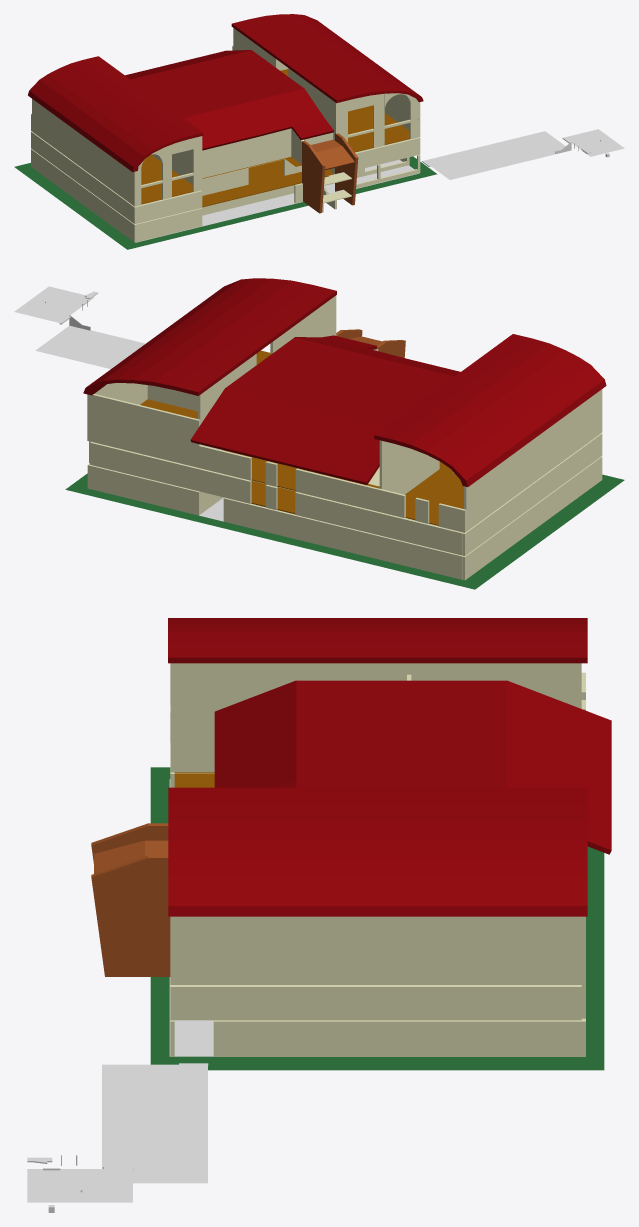
File: Estructura Ing. Informatica.glb
3 views of the same model, one above another, from view 1: azimuth 30°, elevation 25°; view 2: azimuth 150°, elevation 25°; view 3: azimuth 270°, elevation 25° (orthographic). The views are drawn at different scales.
Parts seen in each view (by area): view 1: Cilindro, Cilindro.001, Cubo.114, Cubo.117, Plano.001, Plano.002, Cubo.083, Cubo.085, Cubo.046, Cubo.095, Cubo.075, Cubo.027 (+17 smaller); view 2: Cilindro, Cilindro.001, Cubo.114, Cubo.118, Cubo.050, Plano.002, Cubo.087, Cubo.074, Cubo.059, Cubo.046, Cubo.095, Cubo.083 (+15 smaller); view 3: Cilindro.001, Cubo.114, Cilindro, Cubo.091, Cubo.020, Plano.002, Plano.001, Cubo.084, Cubo.118, Cubo.067, Cubo.086, Cubo.120 (+7 smaller).
Boxes of the visible parts, bbox=[...] form: Cilindro: bbox=[28, 56, 203, 172]; Cilindro.001: bbox=[231, 14, 423, 103]; Cubo.114: bbox=[131, 50, 303, 117]; Cubo.117: bbox=[183, 88, 333, 150]; Plano.001: bbox=[423, 131, 565, 179]; Plano.002: bbox=[14, 156, 437, 249]; Cubo.083: bbox=[141, 69, 409, 204]; Cubo.085: bbox=[202, 128, 291, 178]; Cubo.046: bbox=[31, 149, 136, 242]; Cubo.095: bbox=[74, 130, 133, 205]; Cubo.075: bbox=[31, 131, 136, 223]; Cubo.027: bbox=[202, 159, 334, 207]; Cilindro: bbox=[374, 334, 606, 486]; Cilindro.001: bbox=[83, 278, 336, 395]; Cubo.114: bbox=[226, 337, 454, 426]; Cubo.118: bbox=[190, 388, 384, 484]; Cubo.050: bbox=[226, 498, 462, 579]; Plano.002: bbox=[65, 473, 624, 589]; Cubo.087: bbox=[87, 394, 200, 467]; Cubo.074: bbox=[295, 492, 462, 555]; Cubo.059: bbox=[90, 441, 251, 503]; Cubo.046: bbox=[462, 456, 602, 580]; Cubo.095: bbox=[522, 390, 600, 490]; Cubo.083: bbox=[140, 350, 463, 525]; Cilindro.001: bbox=[168, 787, 587, 916]; Cubo.114: bbox=[296, 680, 506, 787]; Cilindro: bbox=[168, 618, 587, 663]; Cubo.091: bbox=[170, 916, 411, 984]; Cubo.020: bbox=[218, 1020, 585, 1056]; Plano.002: bbox=[150, 767, 604, 1070]; Plano.001: bbox=[102, 1064, 207, 1183]; Cubo.084: bbox=[411, 916, 581, 984]; Cubo.118: bbox=[507, 680, 611, 854]; Cubo.067: bbox=[170, 985, 411, 1020]; Cubo.086: bbox=[175, 663, 371, 772]; Cubo.120: bbox=[91, 855, 170, 976].
Bounding box in the file's own units: 356 × 68.81 × 193.
